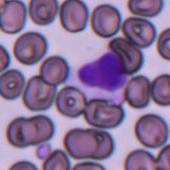M: (77, 50, 128, 92)
